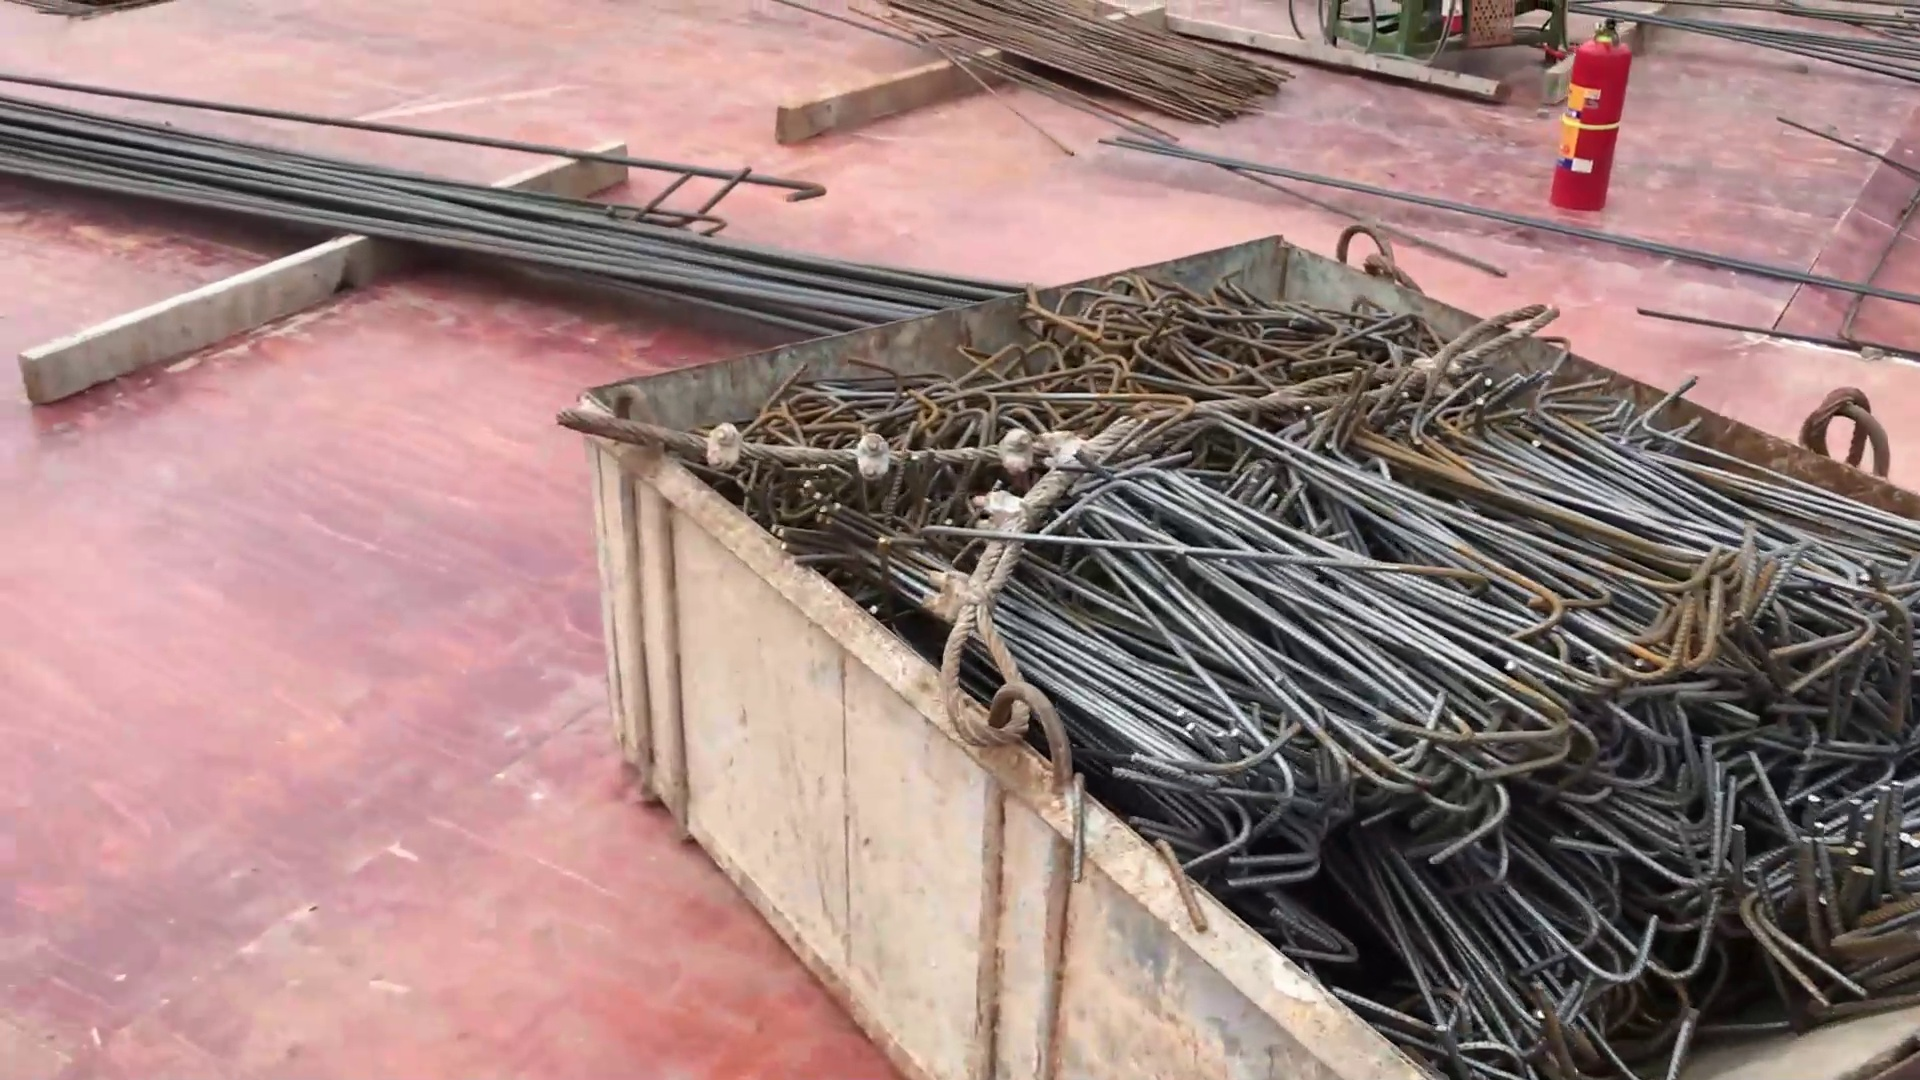hopper: (467, 216, 1917, 1077)
rebar: (3, 61, 1089, 342)
